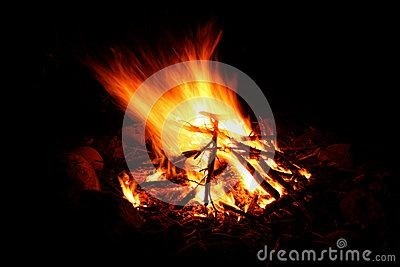fire: (91, 28, 298, 219), (119, 172, 142, 207)
